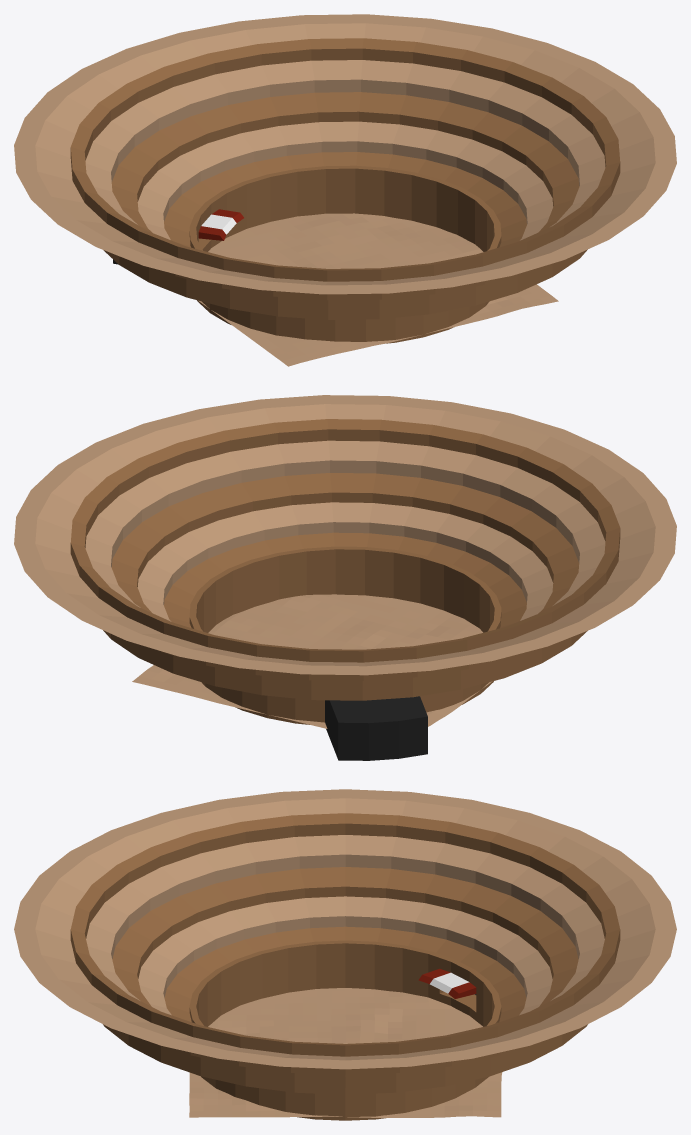
The model's file is Arena_Remastered.fbx.
3 renders of one model, top to bottom at view 1: azimuth 30°, elevation 25°; view 2: azimuth 150°, elevation 25°; view 3: azimuth 270°, elevation 25°, orthographic.
Parts seen in each view (by area): view 1: Walls, Plane; view 2: Walls, Plane; view 3: Walls, Plane.
Boxes of the visible parts, box(x1,y1,x2,y2) form: Walls: box(14, 14, 676, 343); Plane: box(198, 213, 558, 366); Walls: box(14, 395, 676, 760); Plane: box(132, 594, 492, 728); Walls: box(14, 789, 676, 1120); Plane: box(189, 988, 502, 1117).
Bounding box in the file's own units: 21252 × 4441 × 21252.
